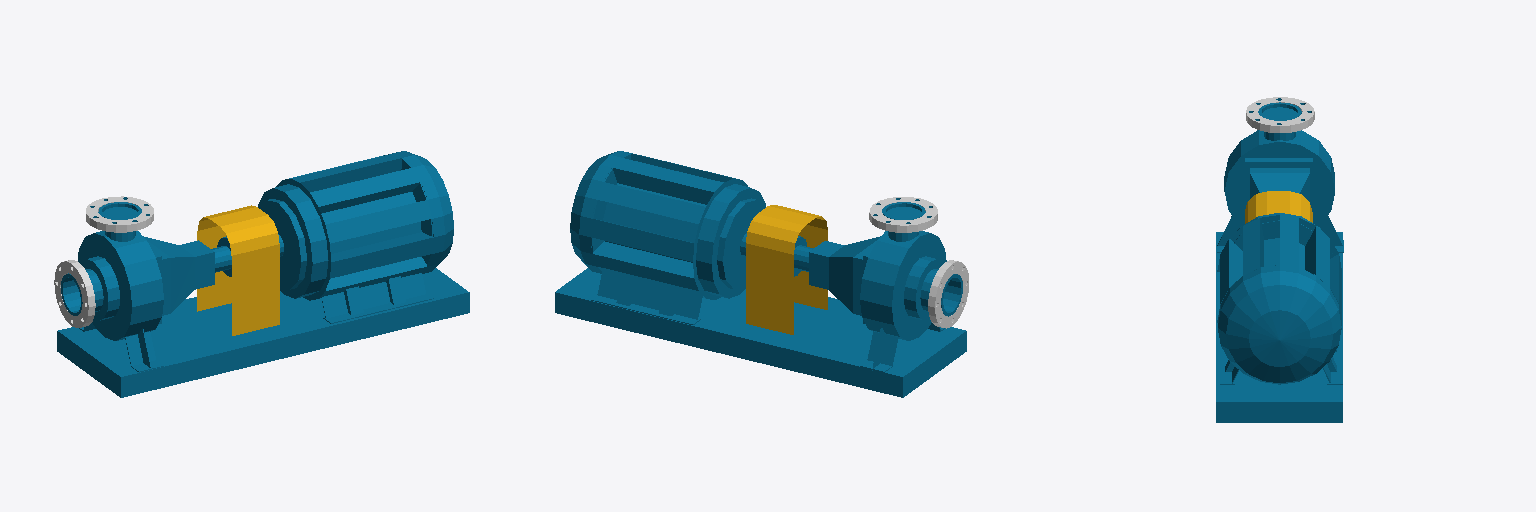
The model's file is horizontal_centrifugal_pump.obj.
The picture shows the model from 3 angles: view 1: azimuth 30°, elevation 25°; view 2: azimuth 150°, elevation 25°; view 3: azimuth 270°, elevation 25°; orthographic projection.
Parts seen in each view (by area): view 1: ___, __.4, __.1, __.2, __, __.5, ___.1, __.6, ___.15, ___.16, ___.8; view 2: ___, __.4, __.1, __.2, __, __.5, ___.1, __.6, ___.11, ___.9, ___.3; view 3: __, ___, __.4, __.1, ___.1, __.2, __.5, ___.2.
Boxes of the visible parts, <box> form: ___: <box>57,205,469,397</box>; __.4: <box>105,154,433,300</box>; __.1: <box>55,197,163,340</box>; __.2: <box>54,196,153,327</box>; __: <box>98,151,453,273</box>; __.5: <box>102,184,328,298</box>; ___.1: <box>143,236,214,315</box>; __.6: <box>259,199,306,289</box>; ___.15: <box>321,273,425,318</box>; ___.16: <box>323,293,433,323</box>; ___.8: <box>125,331,155,365</box>; ___: <box>555,205,966,397</box>; __.4: <box>591,154,918,299</box>; __.1: <box>860,198,967,340</box>; __.2: <box>869,197,968,328</box>; __: <box>570,151,925,273</box>; __.5: <box>696,184,921,298</box>; ___.1: <box>809,236,880,315</box>; __.6: <box>717,198,764,289</box>; ___.11: <box>597,268,702,319</box>; ___.9: <box>590,295,700,324</box>; ___.3: <box>867,331,898,366</box>; __: <box>1218,102,1341,384</box>; ___: <box>1216,191,1342,422</box>; __.4: <box>1217,132,1341,322</box>; __.1: <box>1224,98,1334,226</box>; ___.1: <box>1250,168,1309,201</box>; __.2: <box>1246,97,1314,132</box>; __.5: <box>1234,107,1332,258</box>; ___.2: <box>1245,158,1312,211</box>.
Size of the model in its own units: 749 by 303 by 224.